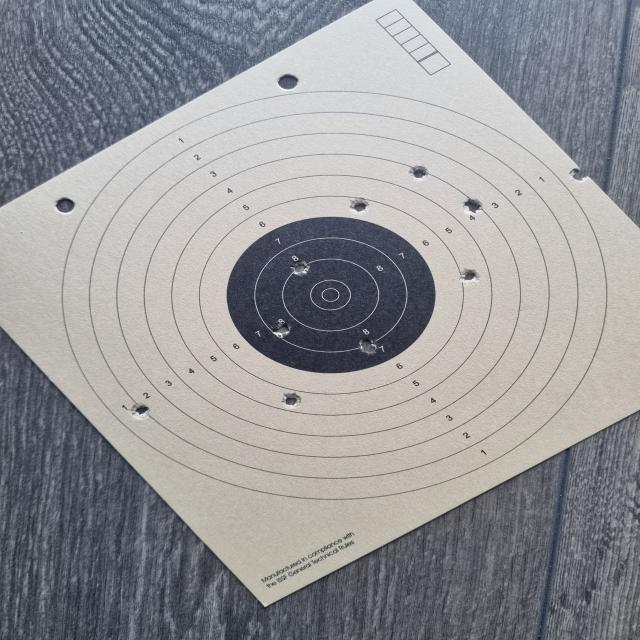0: (568, 167, 587, 182)
2: (130, 404, 149, 416)
4: (463, 199, 483, 213), (408, 166, 428, 179)
5: (282, 393, 300, 407)
6: (458, 268, 479, 283), (349, 198, 368, 212)
8: (270, 321, 290, 338), (359, 345, 377, 354), (359, 338, 374, 346)
9: (290, 260, 310, 275)
Target: (61, 90, 612, 500)
black_contour: (229, 216, 436, 374)
